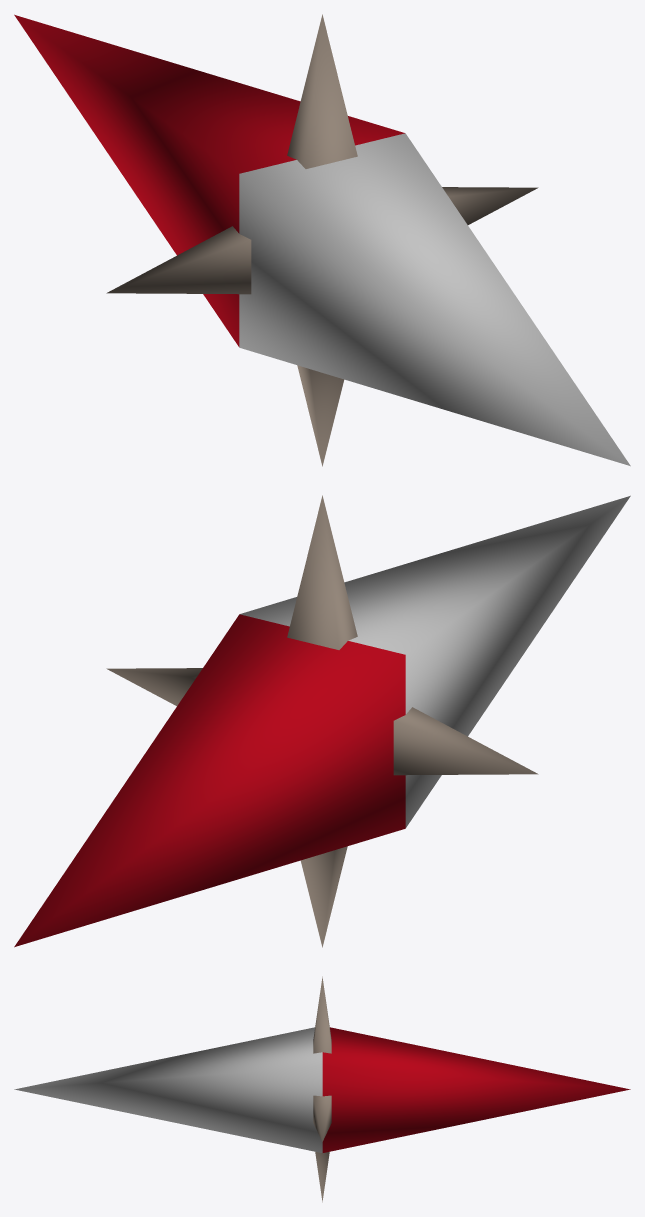
The model's file is compass3.fbx.
3 views of the same model, one above another, from view 1: azimuth 30°, elevation 25°; view 2: azimuth 150°, elevation 25°; view 3: azimuth 270°, elevation 25° (orthographic). The views are drawn at different scales.
Visible parts, largest first — view 1: Cube; view 2: Cube; view 3: Cube.
Boxes of the visible parts, bbox=[...] form: Cube: bbox=[14, 14, 630, 466]; Cube: bbox=[14, 495, 630, 947]; Cube: bbox=[14, 976, 630, 1202].
Bounding box in the file's own units: 0.81 × 0.81 × 2.
